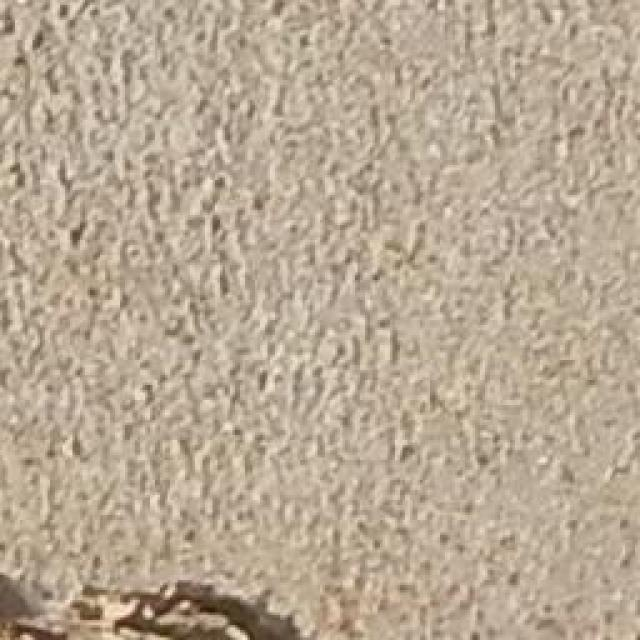concrete-crack: (0, 569, 328, 640)
